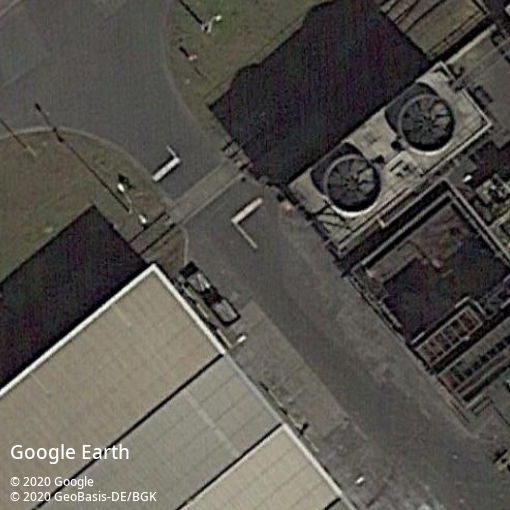Vent: (322, 155, 385, 216), (398, 95, 458, 154)
